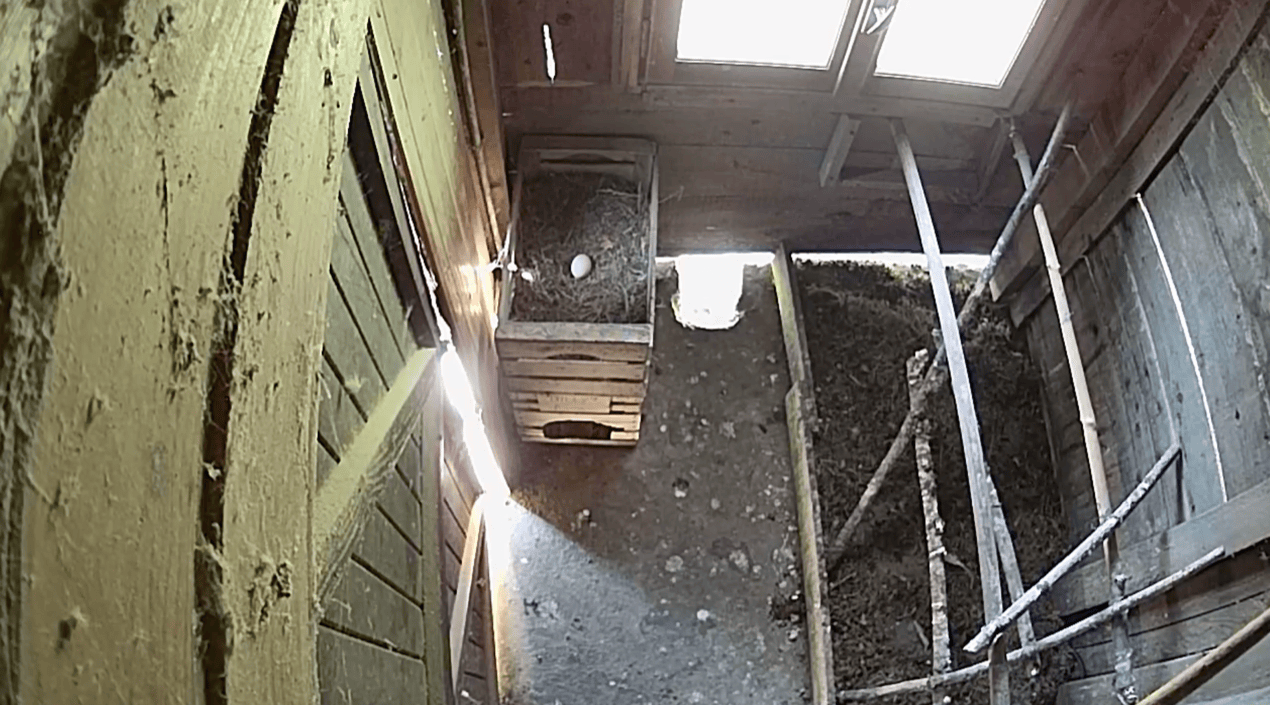egg: (567, 252, 594, 282)
